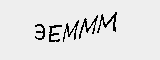Е: (47, 23, 62, 42)
М: (94, 10, 118, 36), (78, 15, 97, 39), (61, 19, 79, 43)
Э: (32, 22, 46, 42)
